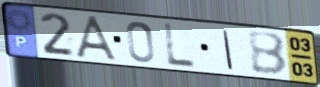0: (125, 20, 157, 65)
2: (38, 12, 77, 58)
A: (73, 14, 122, 64)
B: (246, 30, 290, 77)
I: (221, 28, 235, 72)
L: (163, 22, 200, 70)
